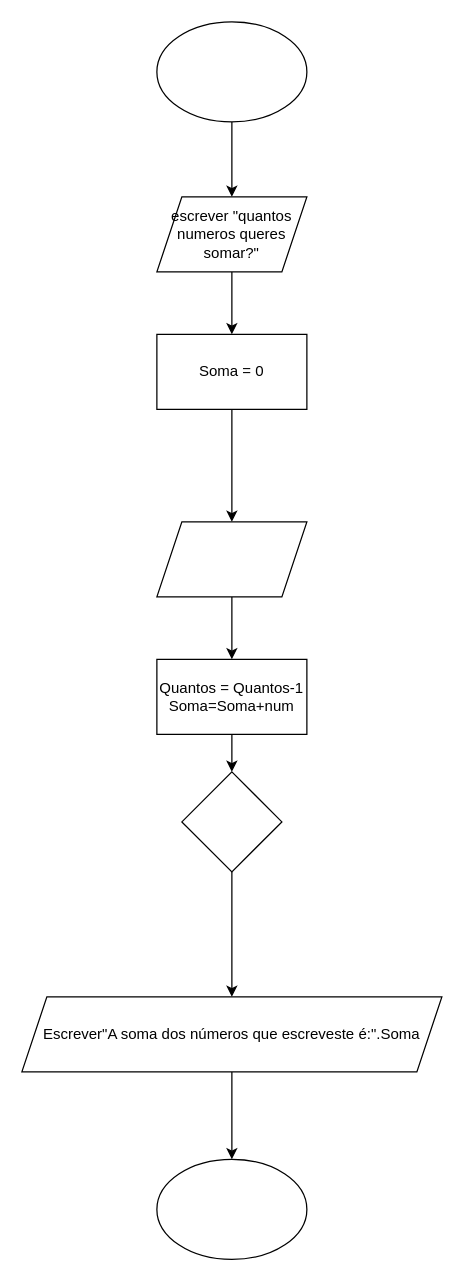
This 464x1281 diagram has some shape labels left out. Here are the shapes that lost their labels. From the top down, the box of each, then its label:
(156, 521, 307, 597): Ler N
(181, 771, 282, 872): Quantos=0
